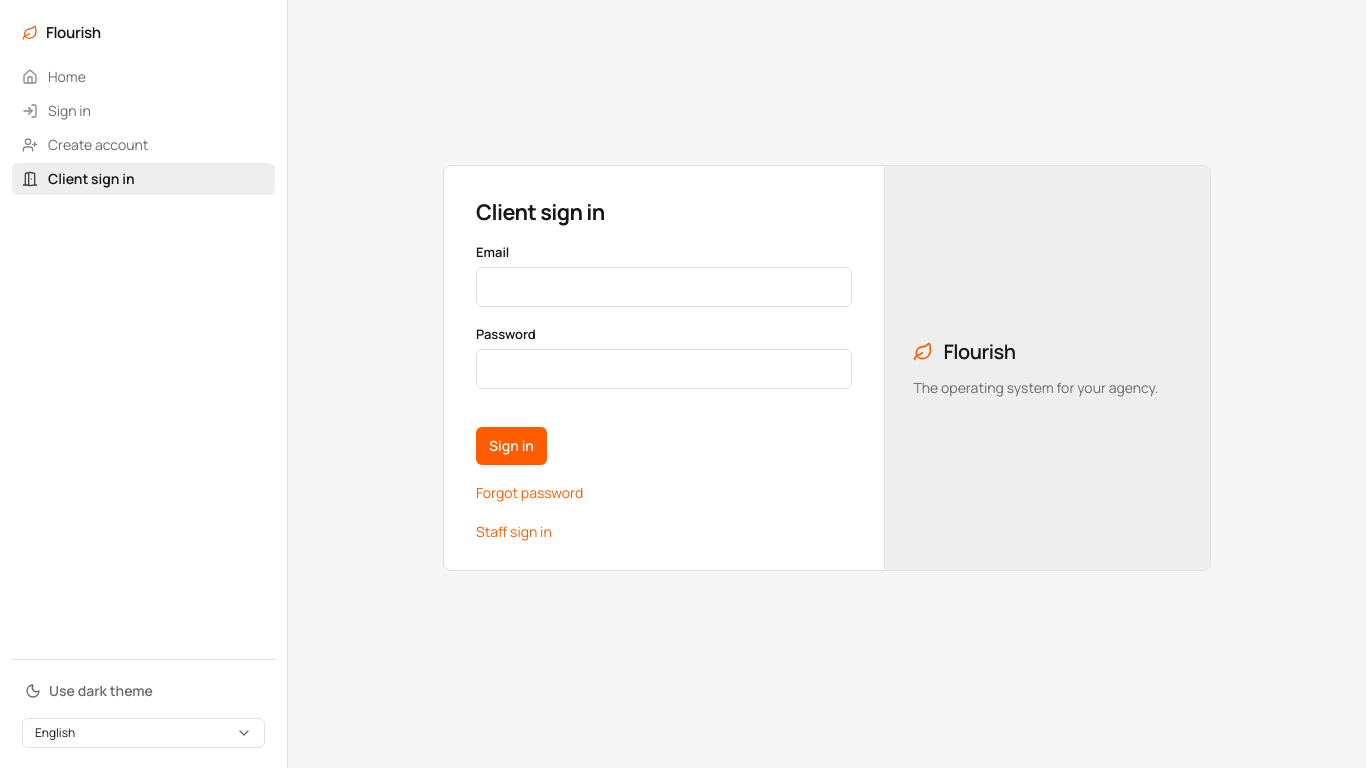
Test: PortalLoginForm › creates a portal session after a successful login
The image size is (1366, 768).
In the field labelled "Email": (664, 287) [476, 267, 852, 307], type "pat@example.com"
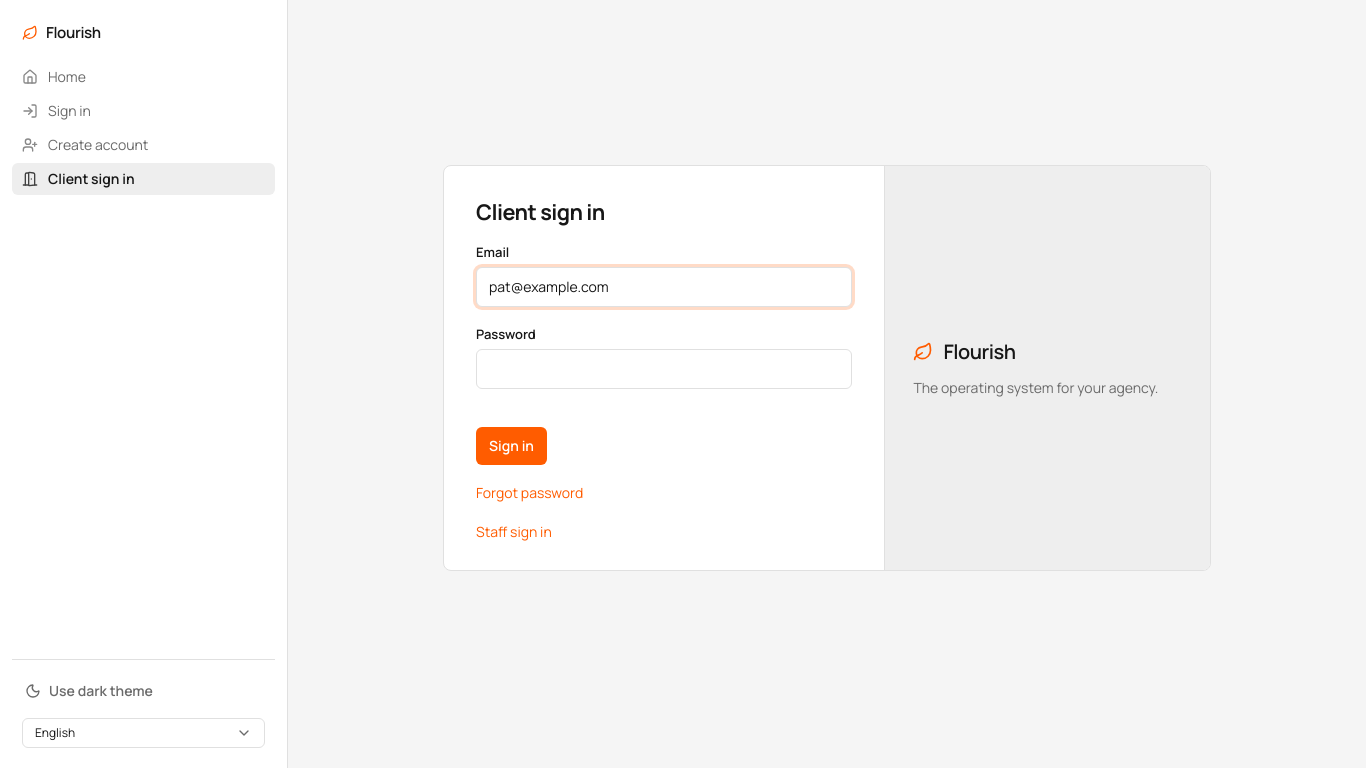
In the password field labelled "Password": (664, 369) [476, 349, 852, 389], type "password1"
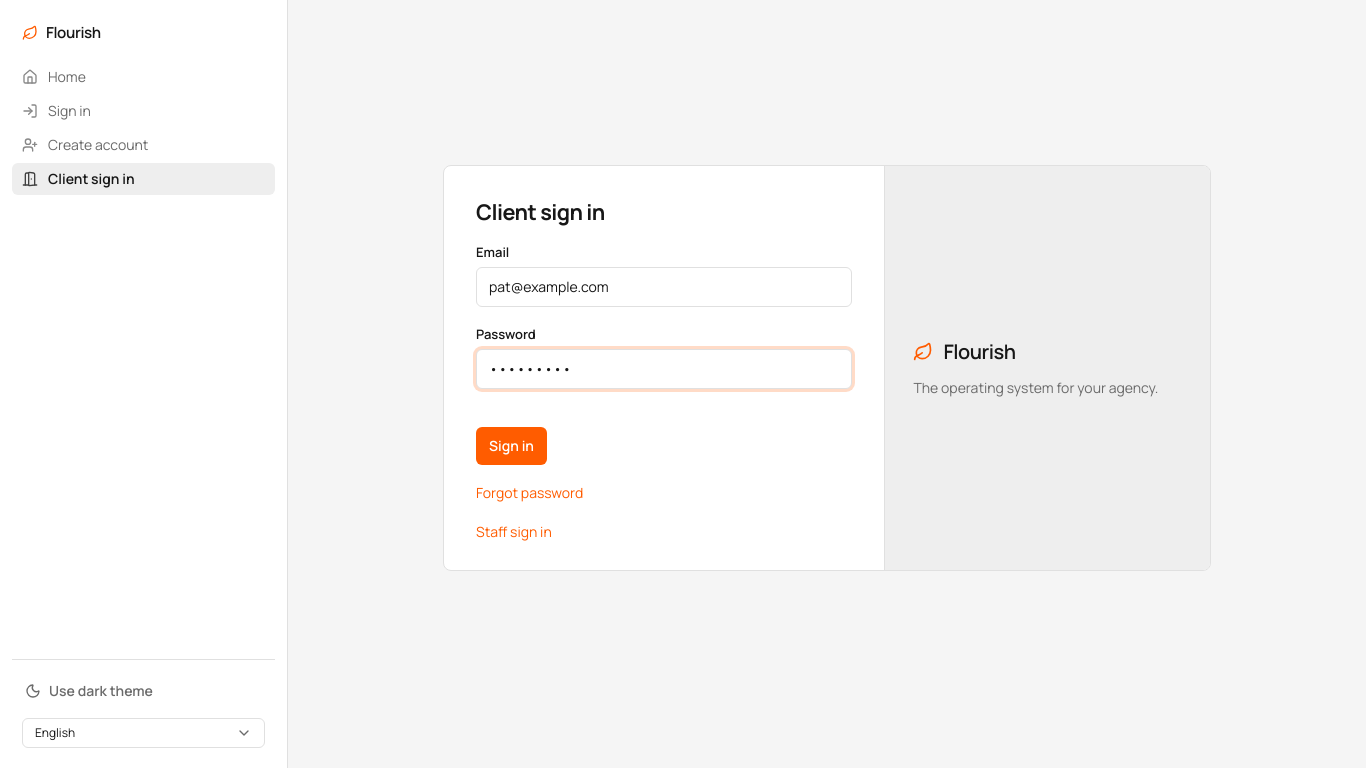
Click the button "Sign in": (512, 446) [476, 427, 547, 465]
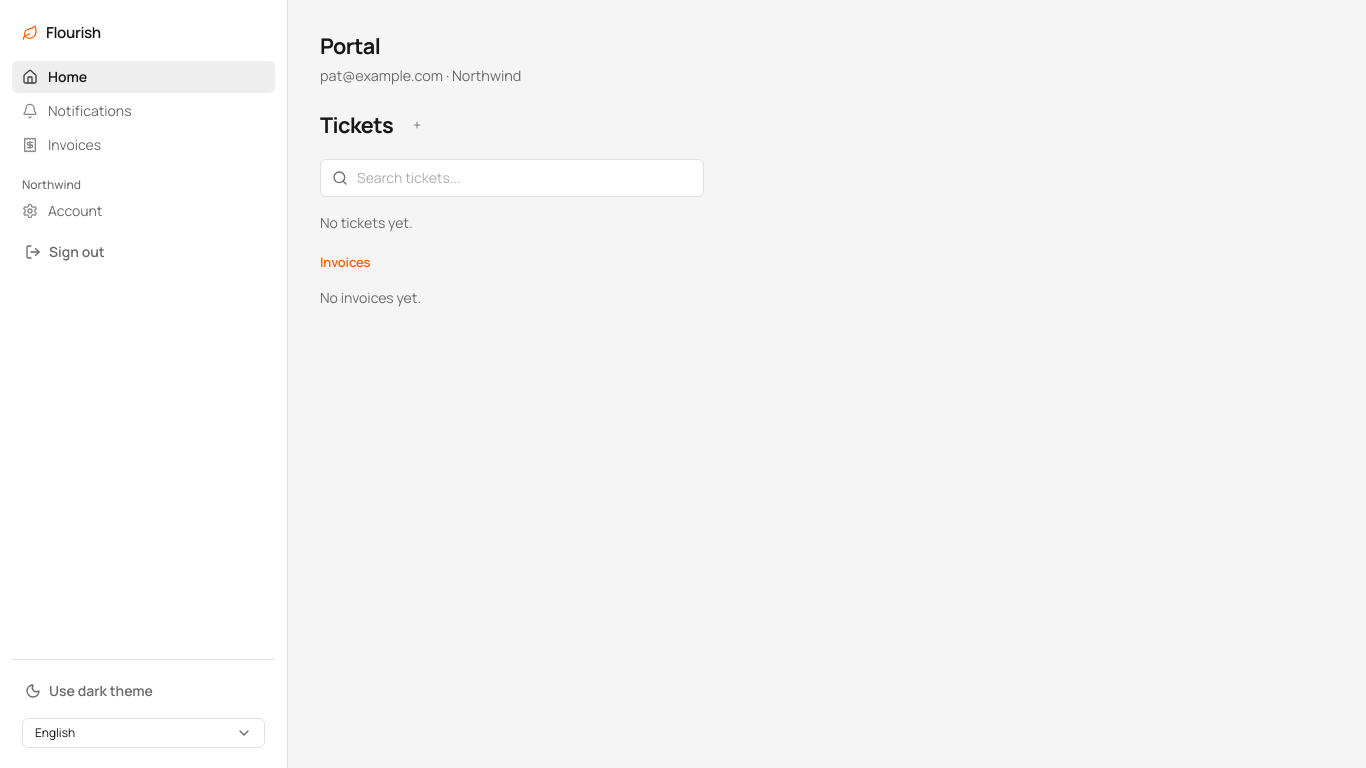
Expected: the heading "Portal" is shown, [320, 32, 380, 59]
Expected: the text "pat@example.com · Northwind" is shown, [320, 66, 521, 85]
Expected: the text "Northwind" is shown 2 times, [22, 176, 81, 193]; [320, 66, 521, 85]
